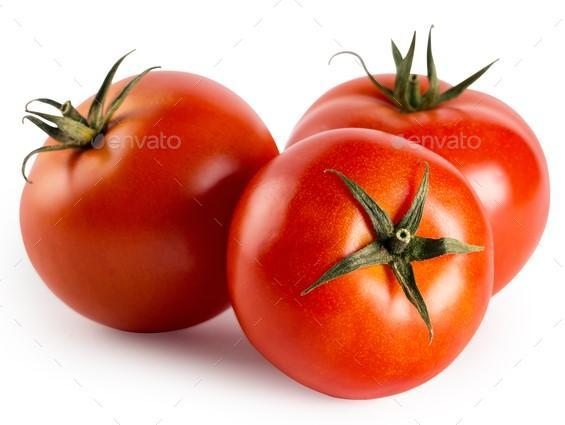healthy-tomato: (228, 129, 490, 402), (19, 68, 281, 336), (287, 34, 552, 297)
